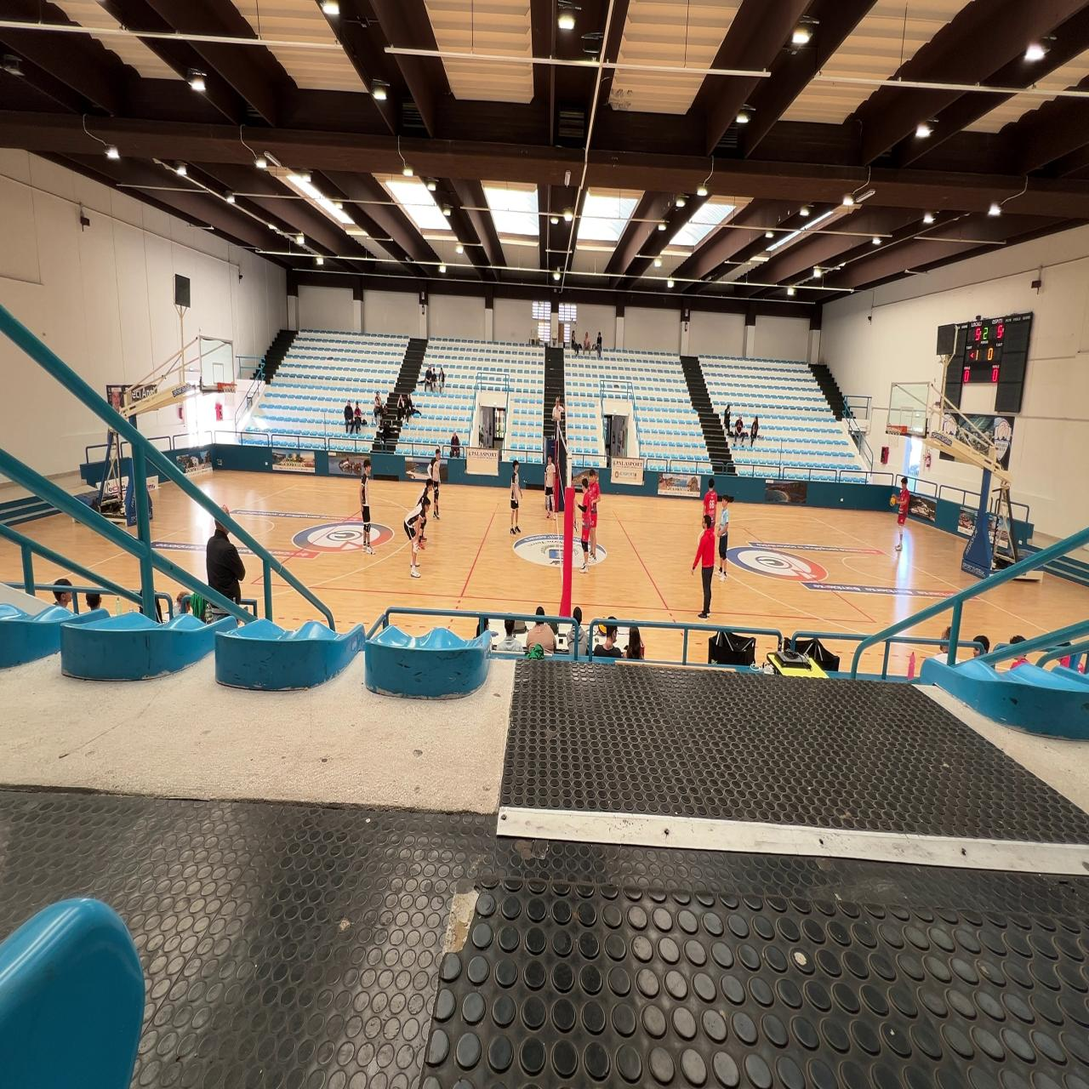ball: (890, 497, 896, 507)
